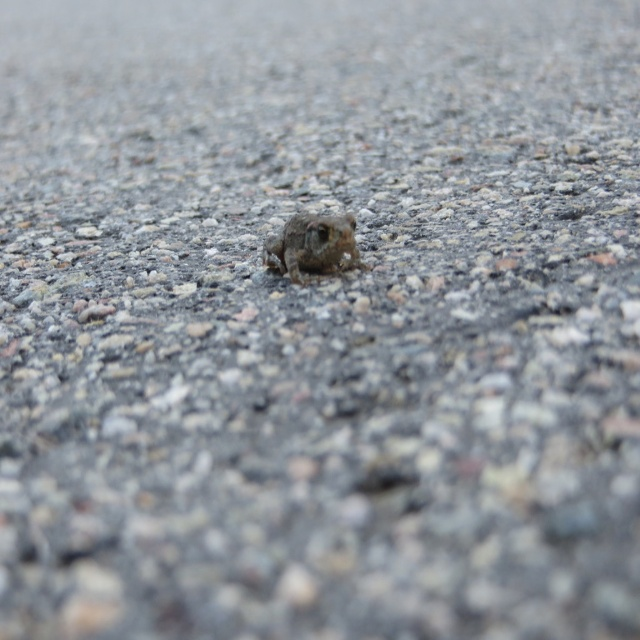Frog: (263, 210, 358, 285)
